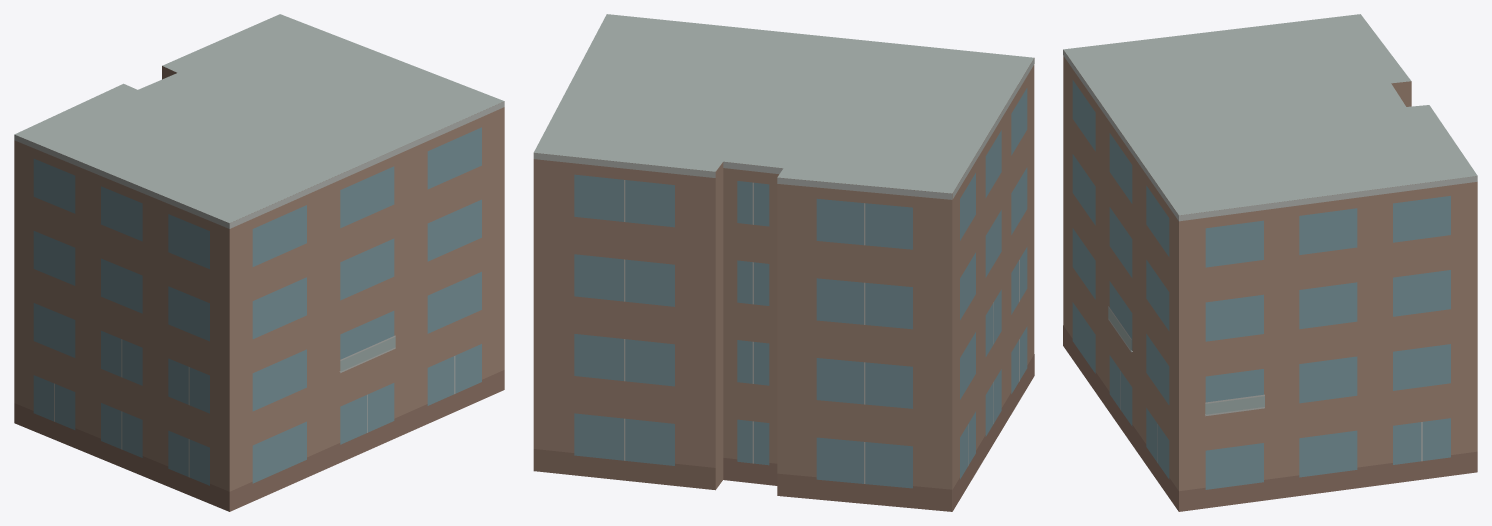
The model's file is survey-upis-32562612.glb.
3 renders of one model, left to right at view 1: azimuth 30°, elevation 25°; view 2: azimuth 150°, elevation 25°; view 3: azimuth 270°, elevation 25°, orthographic. The views are drawn at different scales.
Visible parts, largest first — view 1: survey-upis-32562612.tmp; view 2: survey-upis-32562612.tmp; view 3: survey-upis-32562612.tmp.
Boxes of the visible parts, left/top/right/bottom form: survey-upis-32562612.tmp: left=14, top=14, right=504, bottom=511; survey-upis-32562612.tmp: left=533, top=14, right=1034, bottom=511; survey-upis-32562612.tmp: left=1063, top=14, right=1477, bottom=511.
Size of the model in its own units: 17.79 by 12.2 by 15.47.
